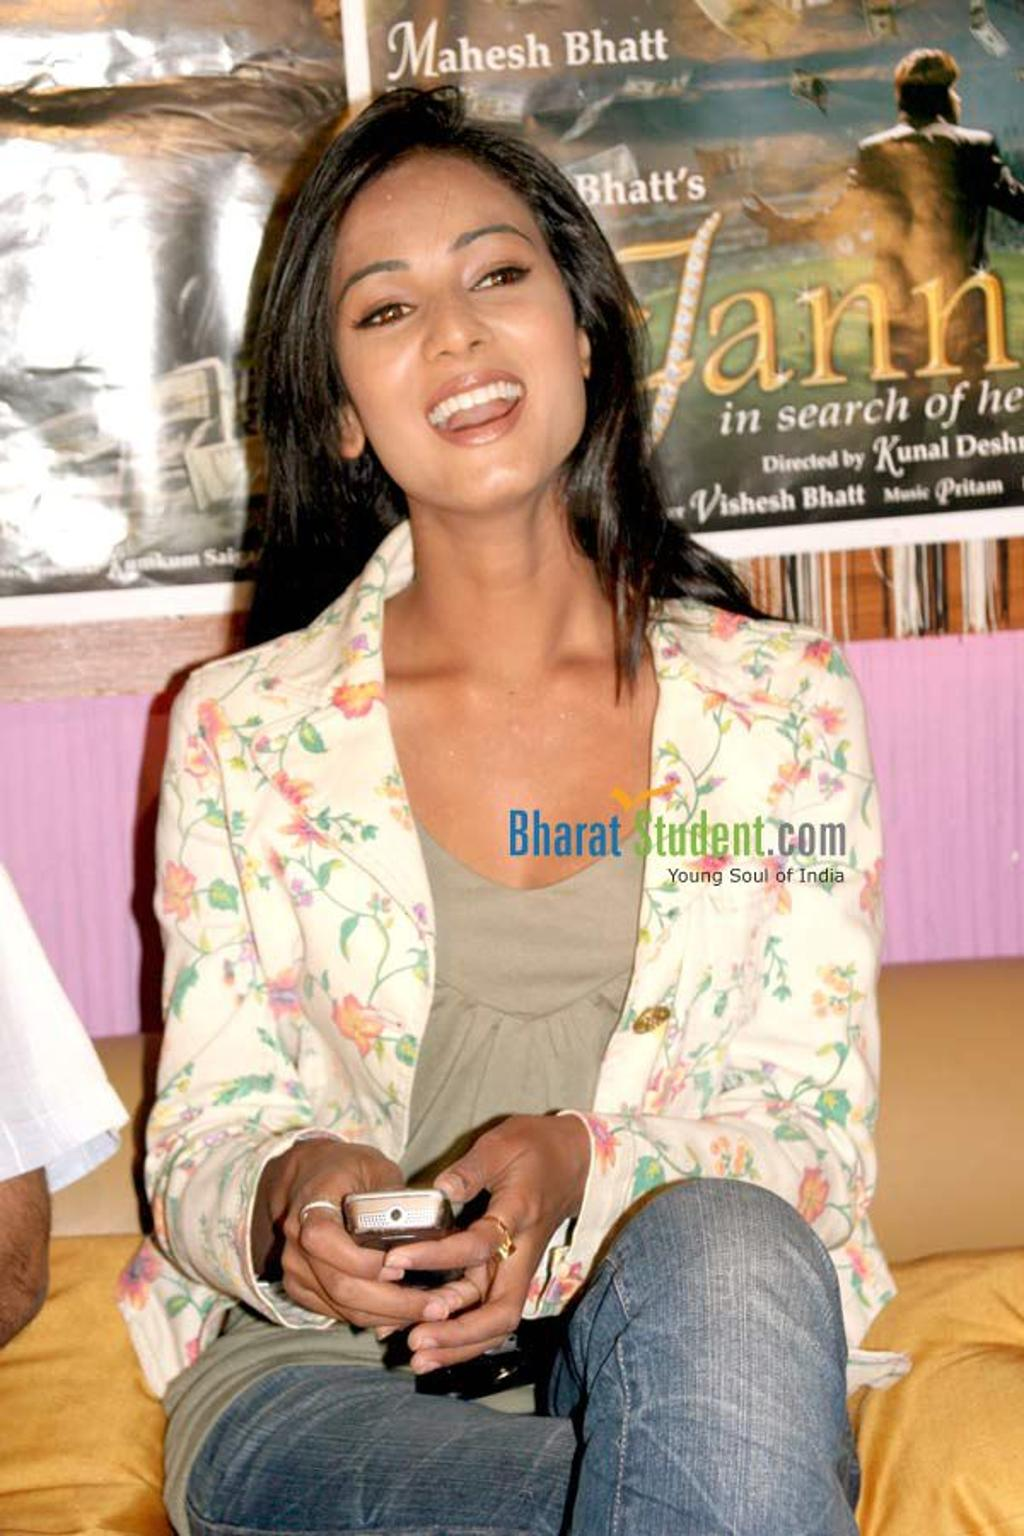face: (333, 153, 582, 501)
